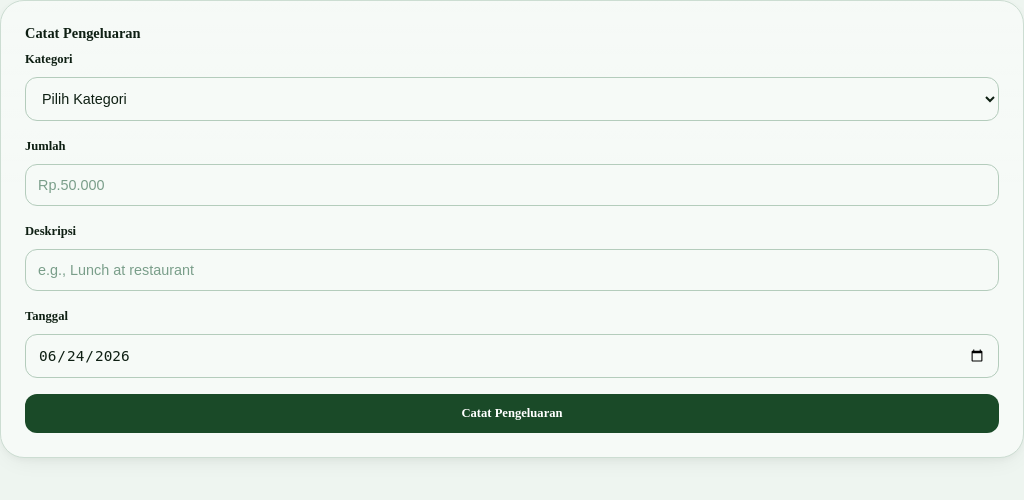
Test: ExpenseForm › should submit payload with number amount and selected date
This screenshot has width=1024, height=500.
Select "Food" in the dropdown labelled "Kategori" at {"x": 512, "y": 99}, box [25,77,999,121]
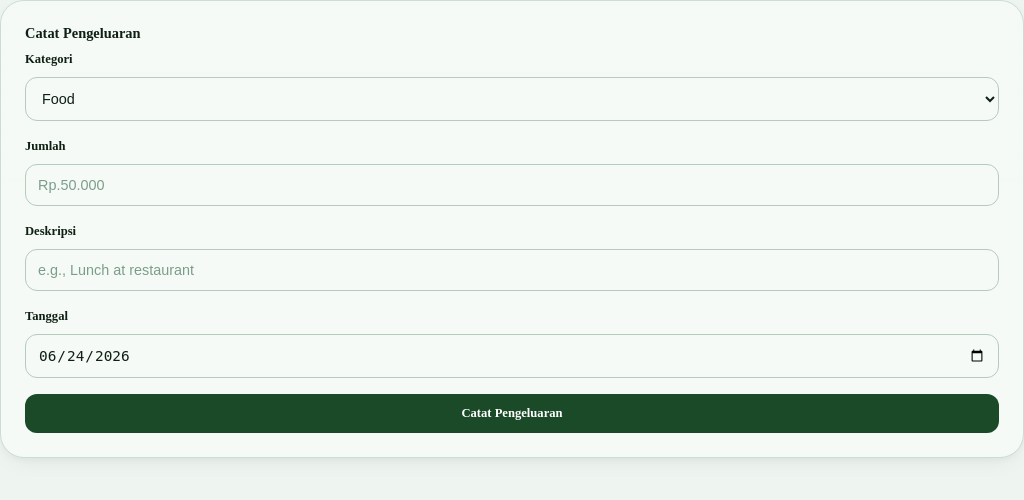
Type "75000" into the field labelled "Jumlah" at {"x": 512, "y": 185}, box [25,164,999,206]
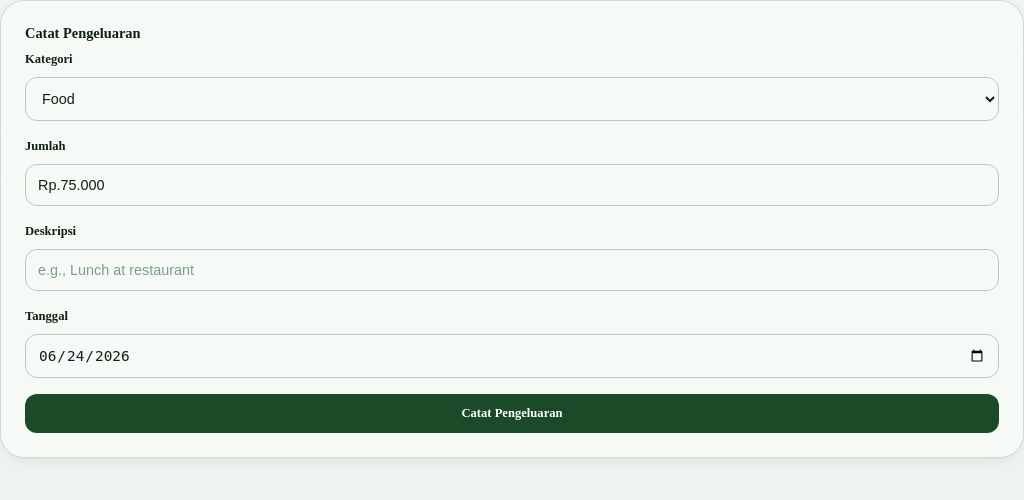
Type "Makan siang" into the field labelled "Deskripsi" at {"x": 512, "y": 270}, box [25,249,999,291]
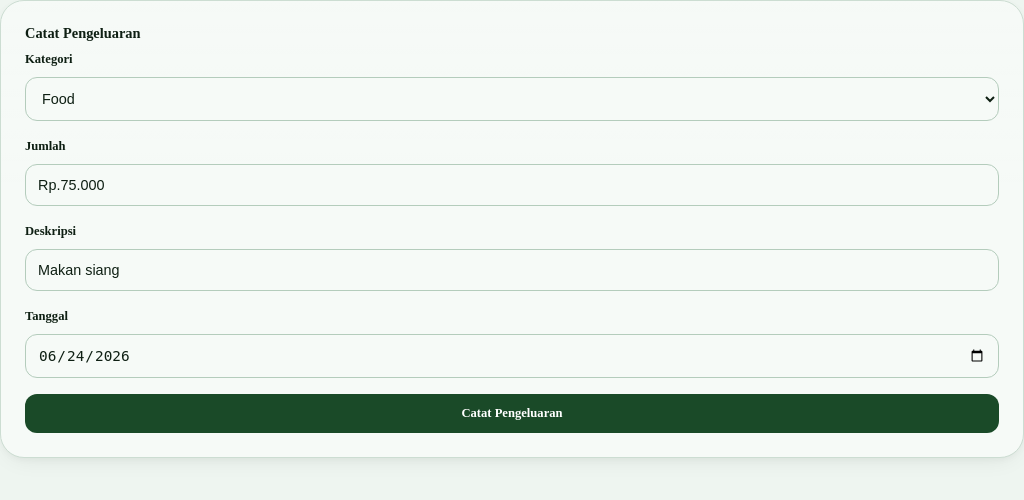
Type "2024-06-07" into the date field labelled "Tanggal" at {"x": 512, "y": 356}, box [25,334,999,378]
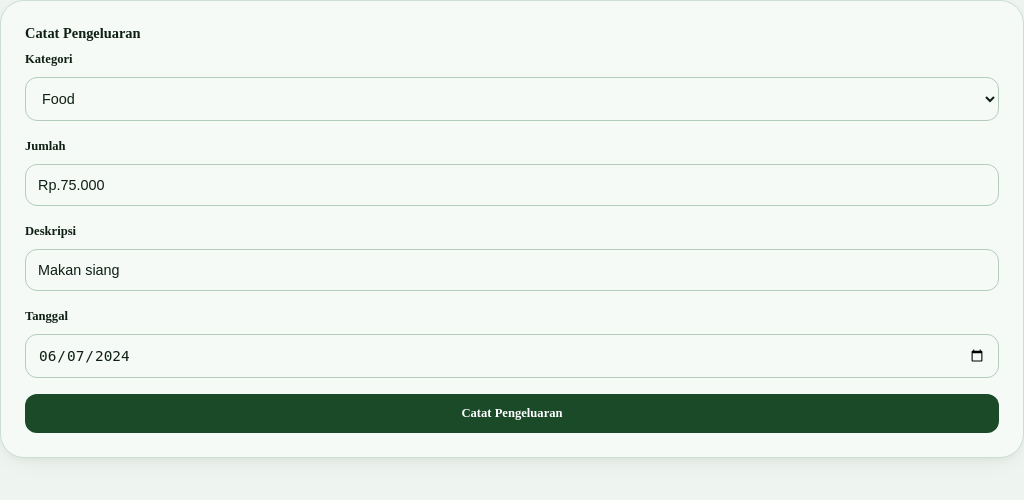
Click the button "Catat Pengeluaran" at {"x": 512, "y": 414}, box [25,394,999,433]
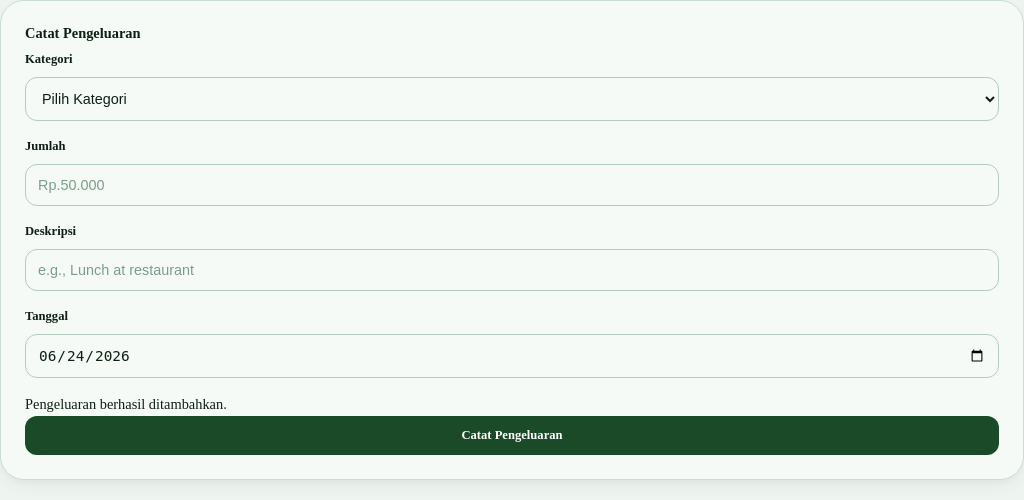
Check: the text "Pengeluaran berhasil ditambahkan." is shown, box [25,396,227,412]
